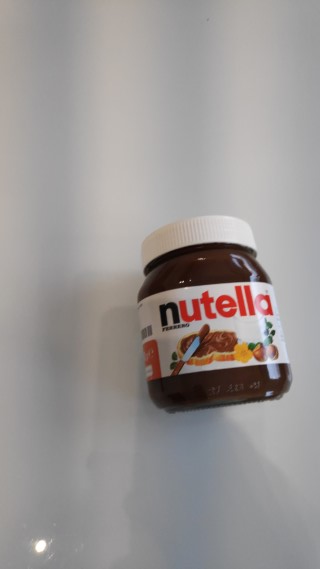nutella: (133, 213, 295, 415)
